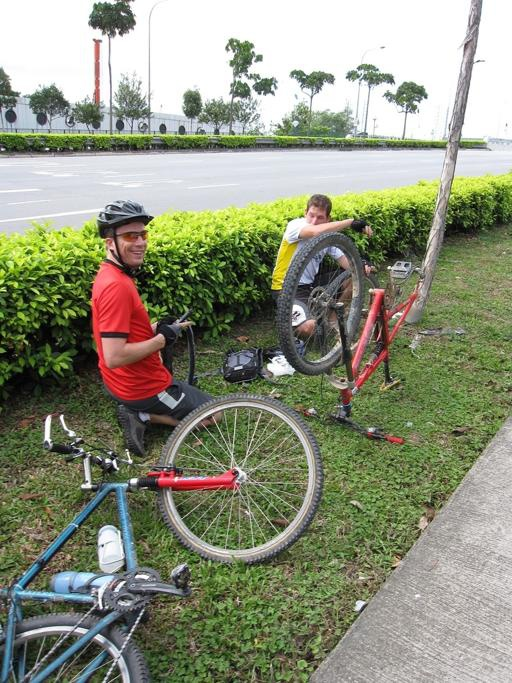non-vehicle: (0, 391, 323, 681), (273, 229, 432, 446)
